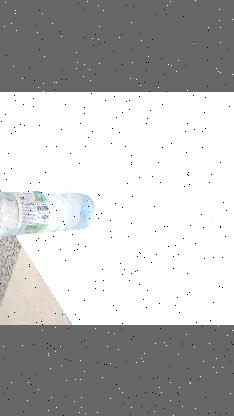Plastic Bottle: (0, 187, 95, 237)
